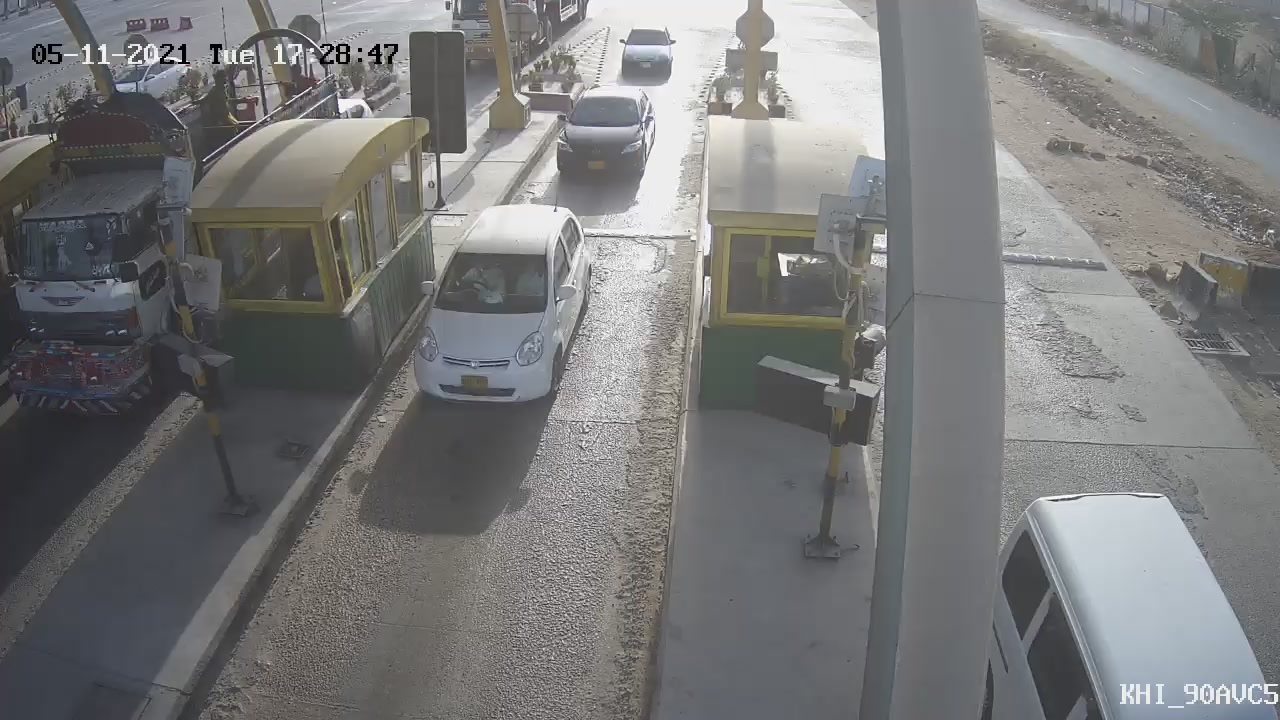F1: (392, 183, 611, 426), (538, 74, 672, 201)
